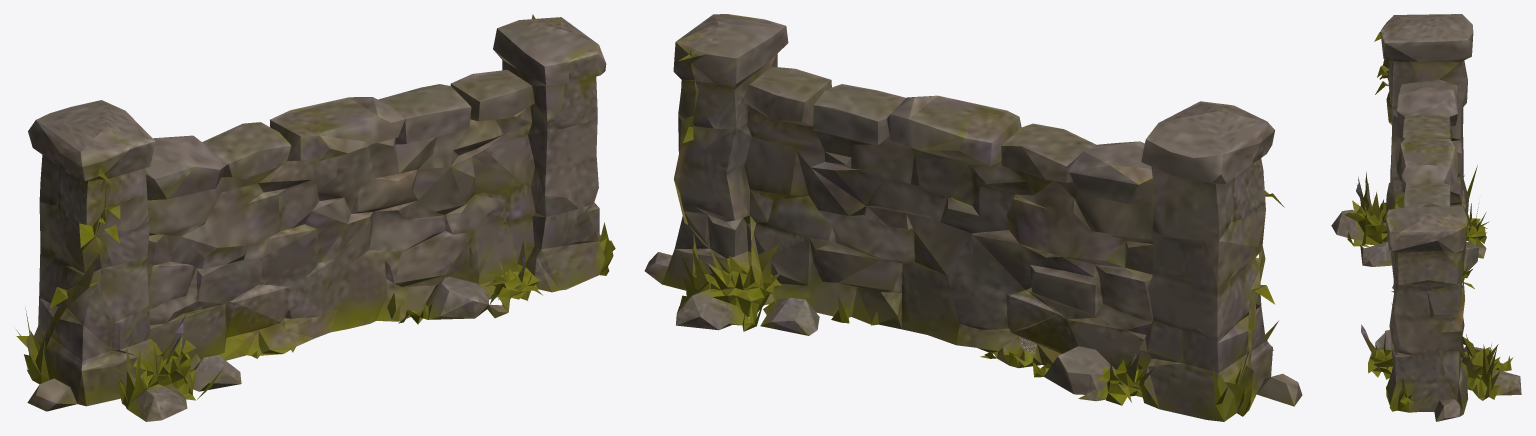
File: wall_b4.glb
3 renders of one model, left to right at view 1: azimuth 30°, elevation 25°; view 2: azimuth 150°, elevation 25°; view 3: azimuth 270°, elevation 25°, orthographic. The views are drawn at different scales.
Parts seen in each view (by area): view 1: output_unwrapped; view 2: output_unwrapped; view 3: output_unwrapped.
Boxes of the visible parts, x1,y1,x2,y2 form: output_unwrapped: (16, 14, 615, 421); output_unwrapped: (644, 14, 1302, 421); output_unwrapped: (1331, 14, 1521, 421).
Size of the model in its own units: 1.9 by 0.7974 by 0.6721.
1 material, 1 textured.
